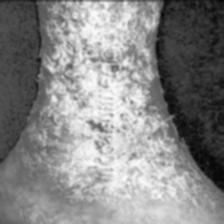Non-Cancerous Skin Condition: (44, 0, 155, 120)
